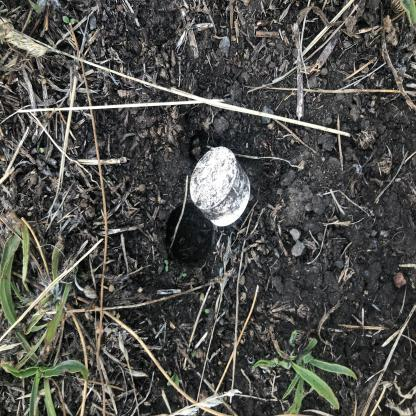trash: (133, 245, 212, 344)
